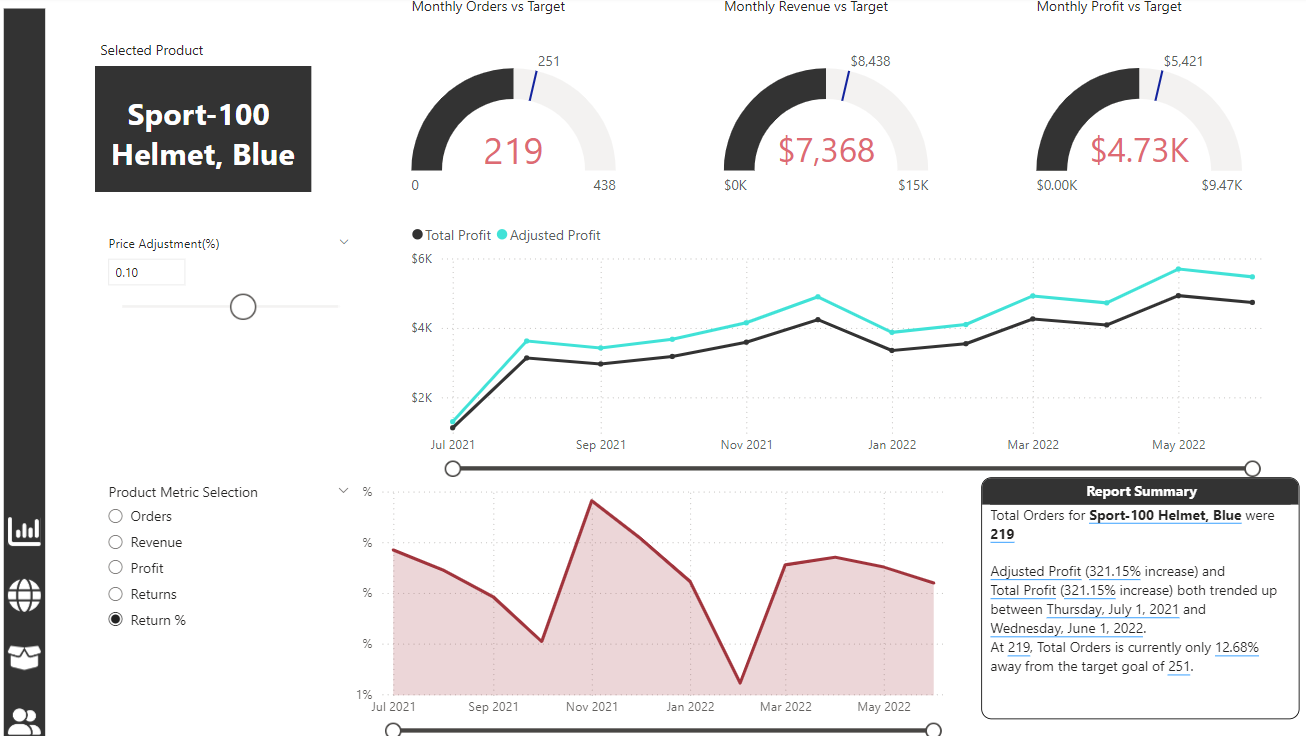

The dashboard page shown, as its layout file describes it:
{"tool":"powerbi","page":{"name":"Product Detail","canvas":[1280,720],"ordinal":2},"visuals":[{"type":"shape","box":[13.8,12.5,40,707.5],"z":0},{"type":"gauge","title":"Monthly Orders vs Target","fields":{"Y":["Measure Table.Total Orders"],"TargetValue":["Measure Table.Order Target"]},"box":[401.6,0,207.4,225.5],"z":1000},{"type":"gauge","title":"Monthly Revenue vs Target","fields":{"Y":["Measure Table.Total Revenue"],"TargetValue":["Measure Table.Revenue Target"]},"box":[703.1,0,207.4,225.5],"z":2000},{"type":"gauge","title":"Monthly Profit vs Target","fields":{"Y":["Measure Table.Total Profit"],"TargetValue":["Measure Table.Profit Target"]},"box":[1004.6,0,208.6,225.5],"z":3000},{"type":"lineChart","title":"Profit Trending","fields":{"Category":["Calendar Lookup.Date Hierarchy.Year","Calendar Lookup.Date Hierarchy.Start of Month","Calendar Lookup.Date Hierarchy.Start of Week","Calendar Lookup.Date Hierarchy.Date"],"Y":["Measure Table.Total Profit","Measure Table.Adjusted Profit"]},"box":[401.6,209.8,847.8,256.9],"z":4000},{"type":"areaChart","title":"Return Trending","fields":{"Y":["Measure Table.Return Rate"],"Category":["Calendar Lookup.Date Hierarchy.Year","Calendar Lookup.Date Hierarchy.Start of Month","Calendar Lookup.Date Hierarchy.Start of Week","Calendar Lookup.Date Hierarchy.Date"]},"box":[347.3,464.3,594.6,255.7],"z":5000},{"type":"card","fields":{"Values":["Min(Product Lookup.ProductName)"]},"box":[101.3,67.8,208.6,121.8],"z":6000},{"type":"textbox","box":[101.3,37.7,180.9,30.2],"z":7000},{"type":"actionButton","box":[13.9,496.9,39.8,39.8],"z":8000},{"type":"actionButton","box":[13.9,558,39.8,39.8],"z":9000},{"type":"actionButton","box":[13.9,680.2,39.8,39.8],"z":10000},{"type":"actionButton","box":[13.9,619.1,39.8,39.8],"z":11000},{"type":"slicer","fields":{"Values":["Price Adjustment(%).Price Adjustment(%)"]},"box":[101.3,225.5,258.1,135.1],"z":12000},{"type":"slicer","fields":{"Values":["Product Metric Selection.Product Metric Selection"]},"box":[101.3,464.3,258.1,174.9],"z":13000},{"type":"textbox","title":"Report Summary","box":[956.4,464.3,307.5,234],"z":14000}]}

Visuals, with their boxes on the page's 1280x720 design canvas (x1, y1, x2, y2). These are canvas units, not pixel positions in the 1306x736 screenshot, which may show the page scaled, cropped or inside an application window:
shape: bbox=[14, 12, 54, 720]
"Monthly Orders vs Target" gauge: bbox=[402, 0, 609, 226]
"Monthly Revenue vs Target" gauge: bbox=[703, 0, 910, 226]
"Monthly Profit vs Target" gauge: bbox=[1005, 0, 1213, 226]
"Profit Trending" lineChart: bbox=[402, 210, 1249, 467]
"Return Trending" areaChart: bbox=[347, 464, 942, 720]
card - Min(Product Lookup.ProductName): bbox=[101, 68, 310, 190]
textbox: bbox=[101, 38, 282, 68]
actionButton: bbox=[14, 497, 54, 537]
actionButton: bbox=[14, 558, 54, 598]
actionButton: bbox=[14, 680, 54, 720]
actionButton: bbox=[14, 619, 54, 659]
slicer - Price Adjustment(%).Price Adjustment(%): bbox=[101, 226, 359, 361]
slicer - Product Metric Selection.Product Metric Selection: bbox=[101, 464, 359, 639]
"Report Summary" textbox: bbox=[956, 464, 1264, 698]
